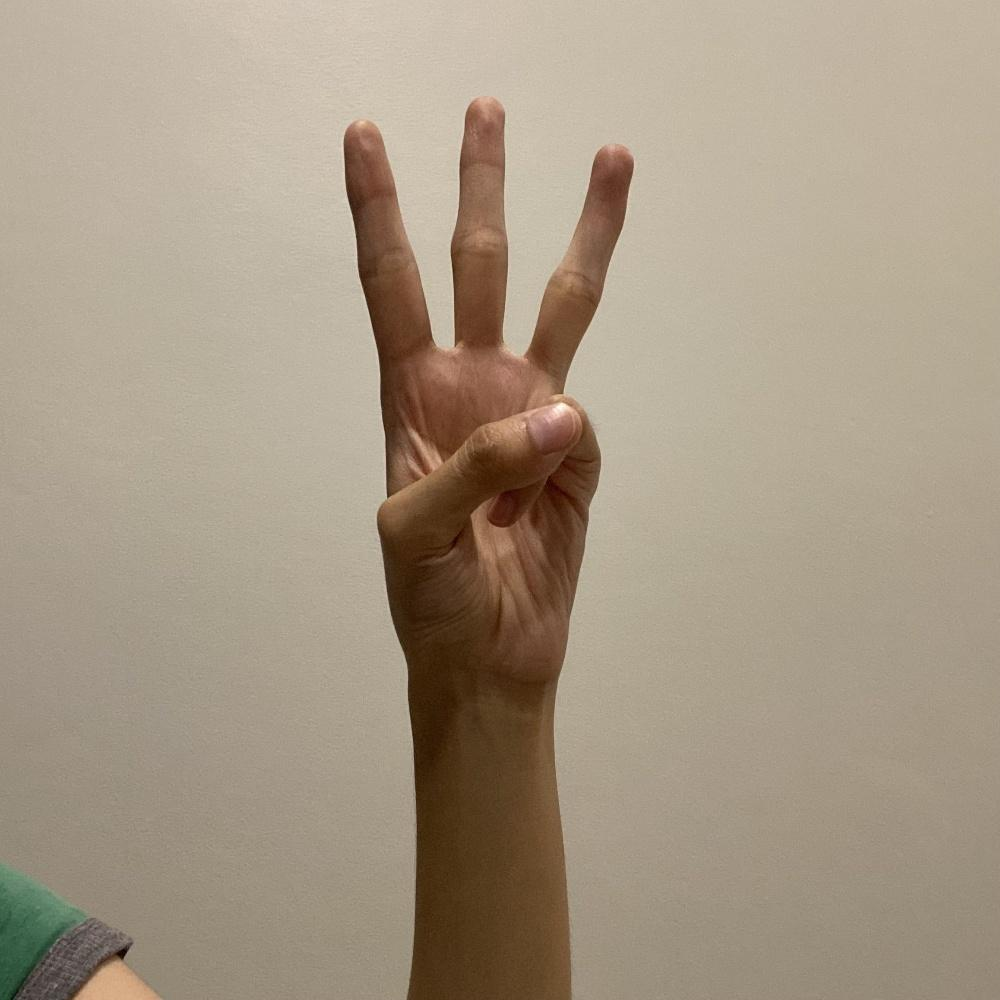w: (339, 91, 639, 700)
